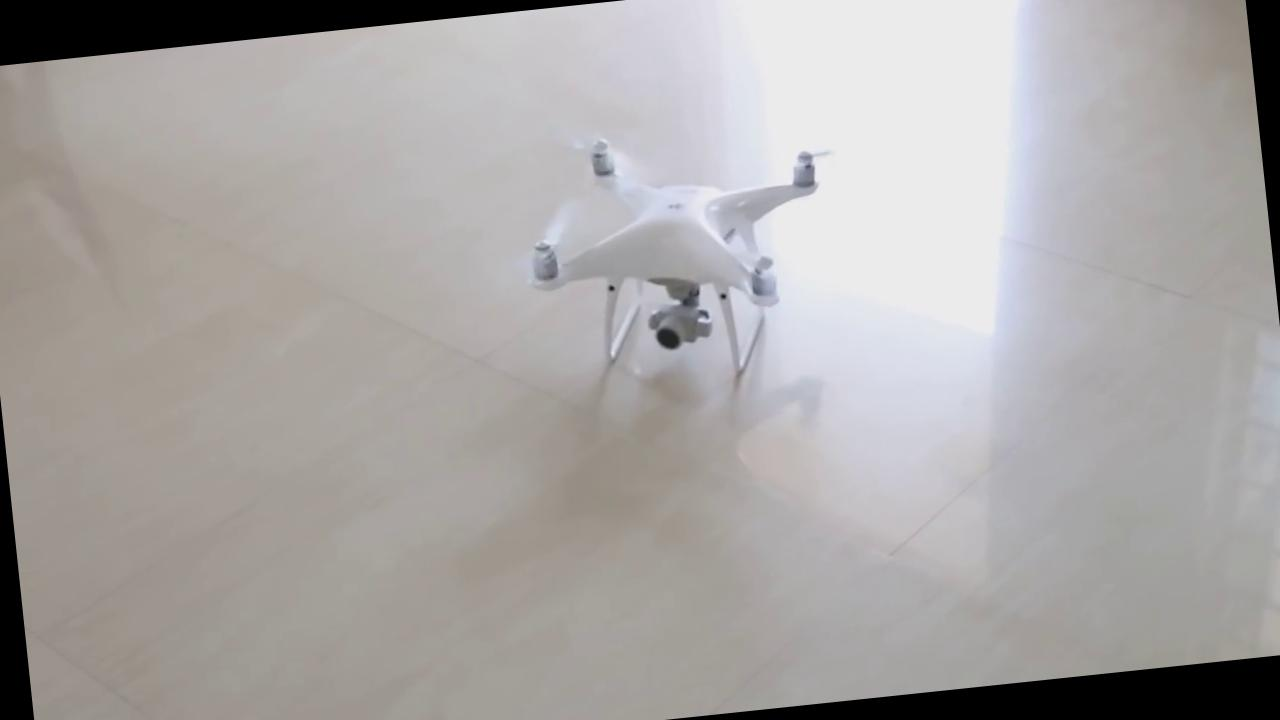drone: (474, 106, 850, 358)
